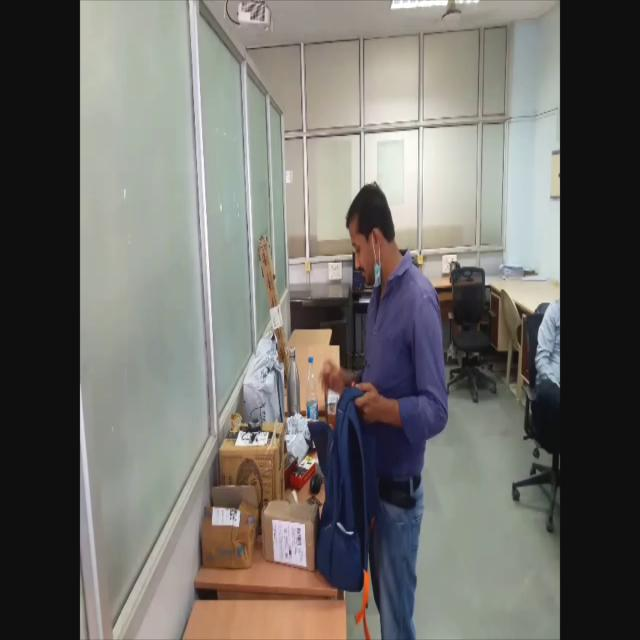shoplifting: (304, 175, 447, 640)
